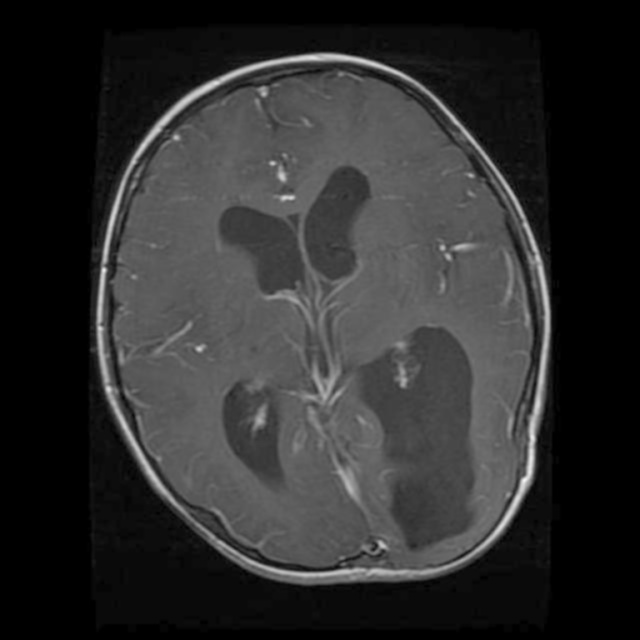pituitary tumor: (366, 336, 479, 544), (234, 380, 294, 482)
